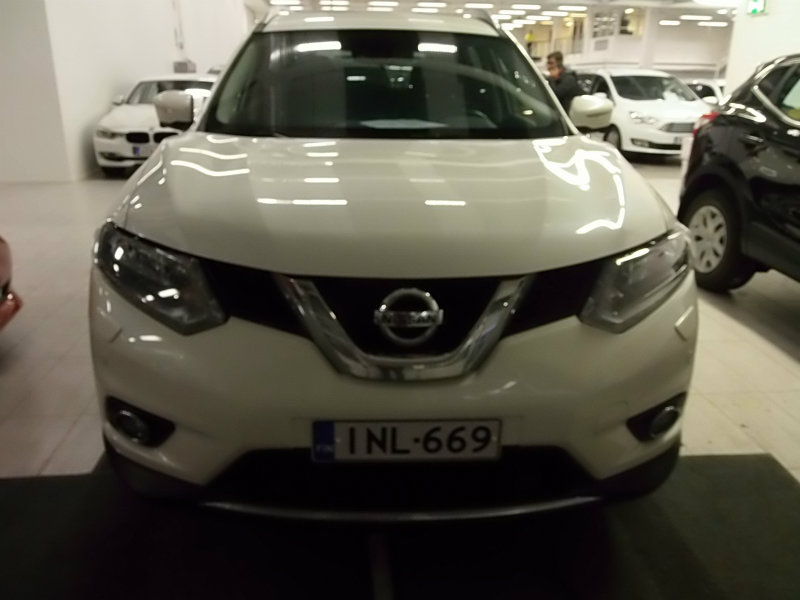license: (308, 414, 502, 469)
